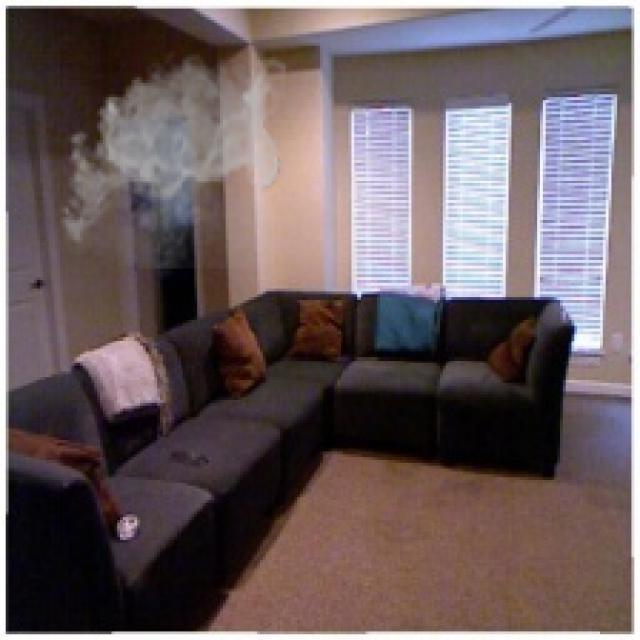Smoke: (54, 45, 286, 268)
